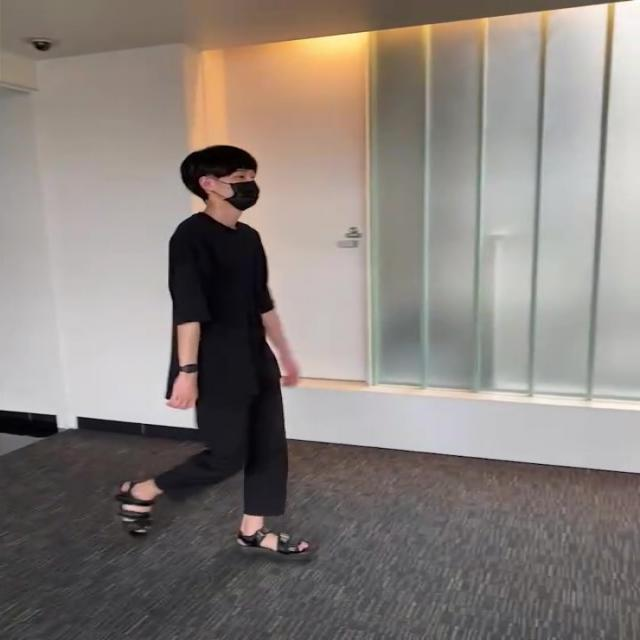direk: (110, 144, 318, 566)
